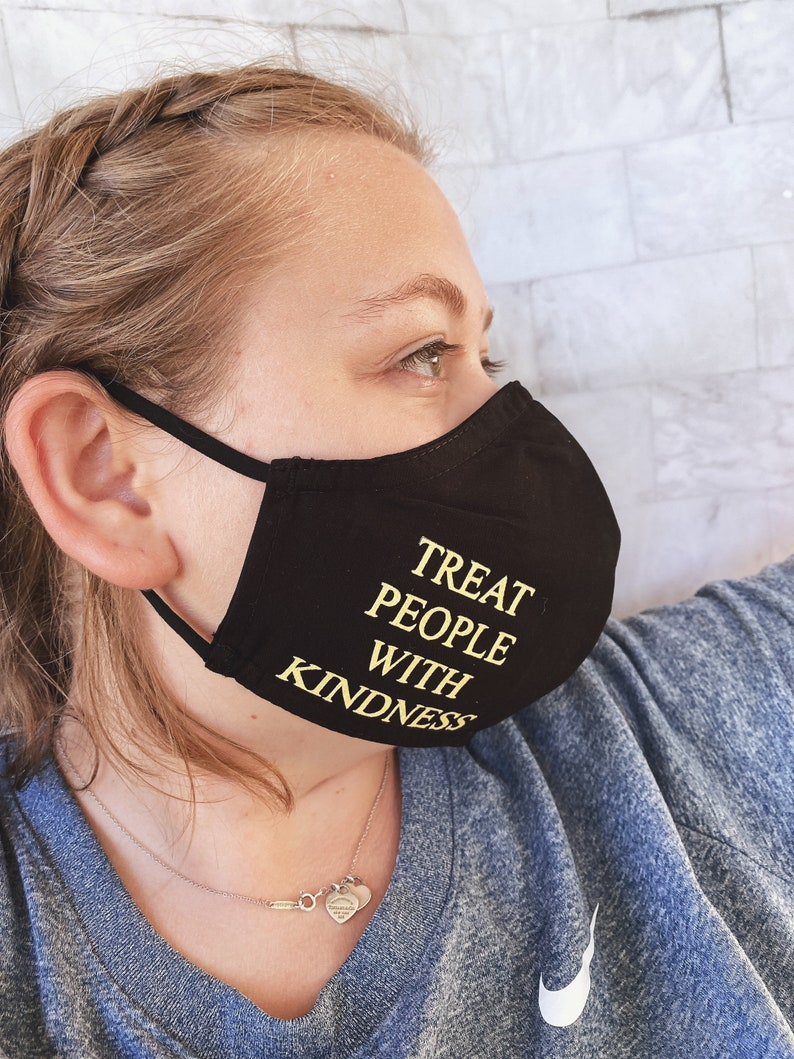with_mask: (282, 259, 585, 722)
